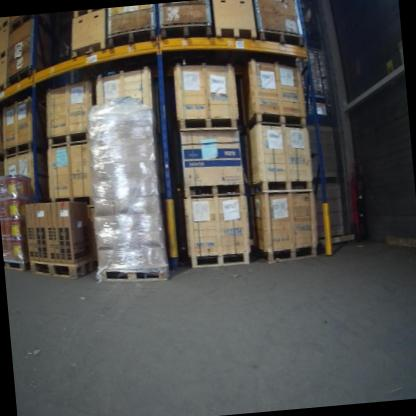pallet: (241, 106, 308, 135), (28, 256, 95, 284), (168, 113, 240, 138), (100, 264, 170, 289), (175, 180, 247, 204), (248, 176, 316, 200), (157, 17, 215, 43), (256, 240, 318, 264), (190, 248, 251, 272), (257, 24, 305, 50), (105, 27, 159, 49), (212, 20, 258, 45), (1, 137, 43, 161), (45, 128, 91, 149), (69, 39, 108, 59), (5, 63, 33, 82), (5, 256, 29, 277), (6, 15, 33, 32), (70, 8, 109, 19), (0, 19, 11, 36), (0, 81, 8, 100), (0, 47, 7, 65)
